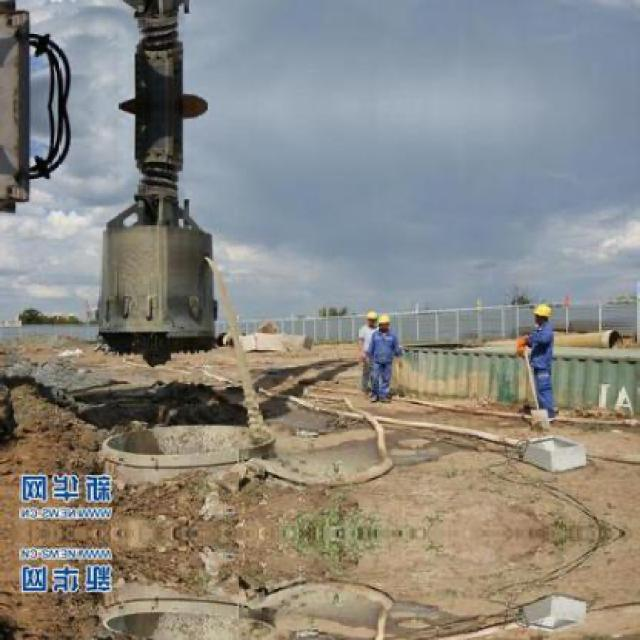con casco: (505, 296, 562, 355), (359, 300, 405, 342)
